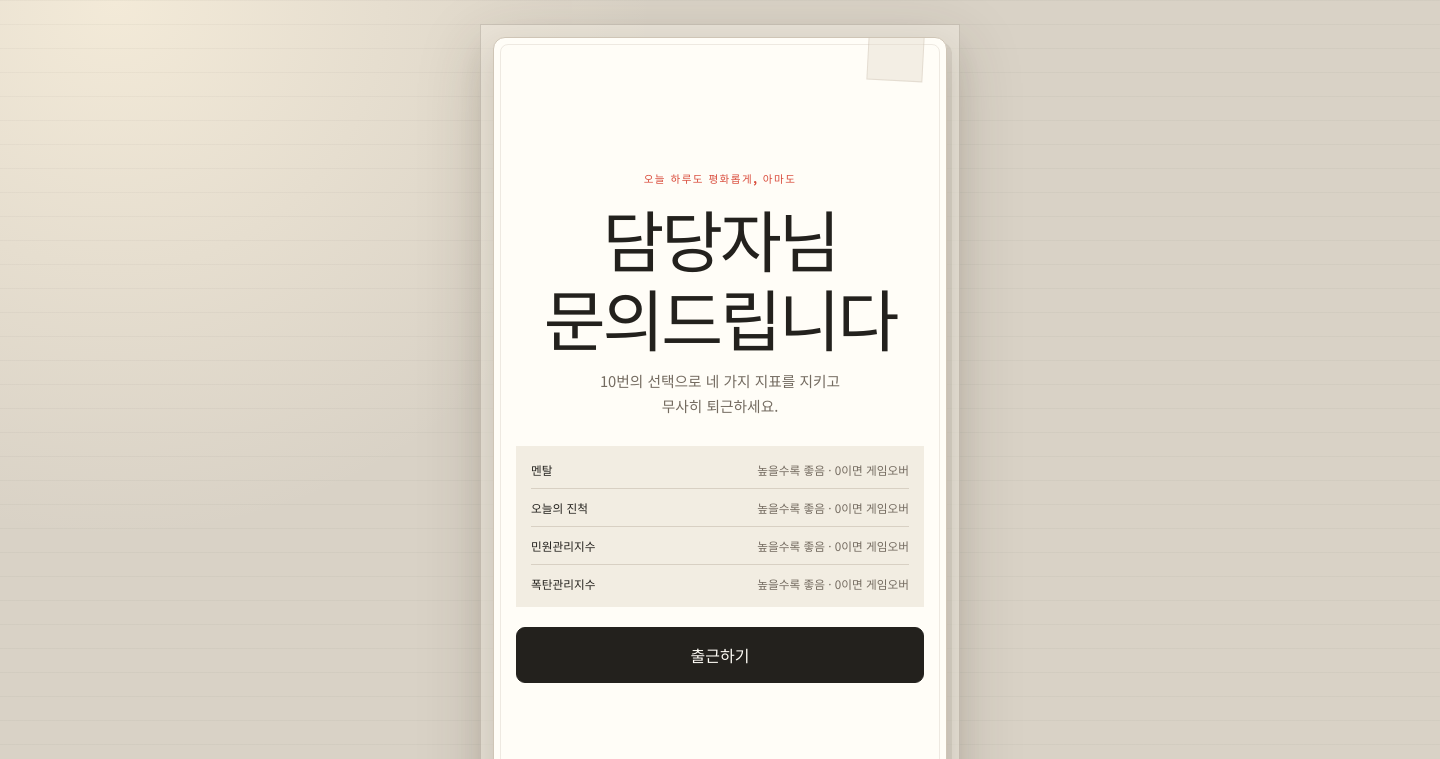
App › starts, chooses, reveals the result, and advances
Step 1. Click the button "출근하기" → point(720, 655), box x1=516 y1=627 x2=924 y2=683
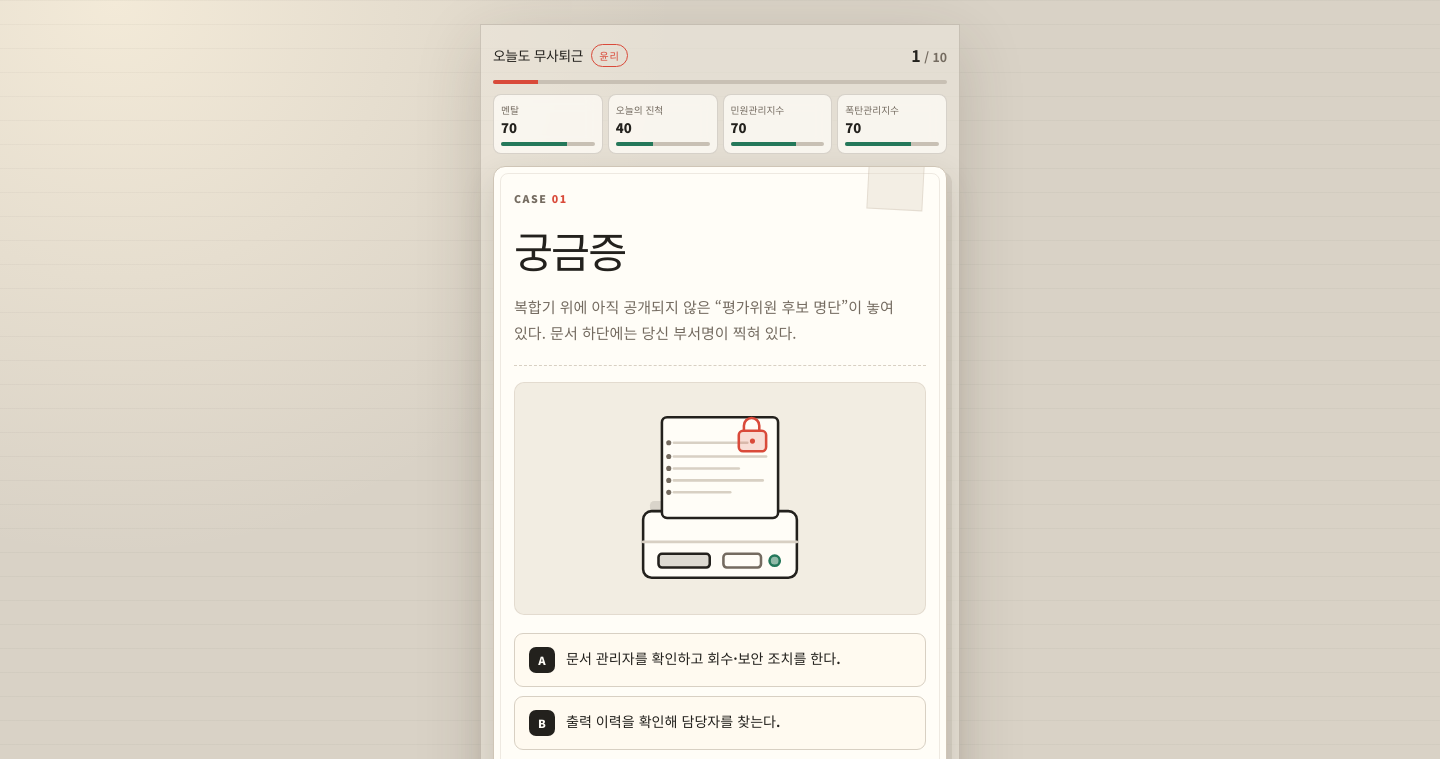
Expected: the button "A 문서 관리자를 확인하고 회수·보안 조치를 한다." is shown
Step 2. Click the button "A 문서 관리자를 확인하고 회수·보안 조치를 한다." → point(720, 660), box x1=514 y1=633 x2=926 y2=687
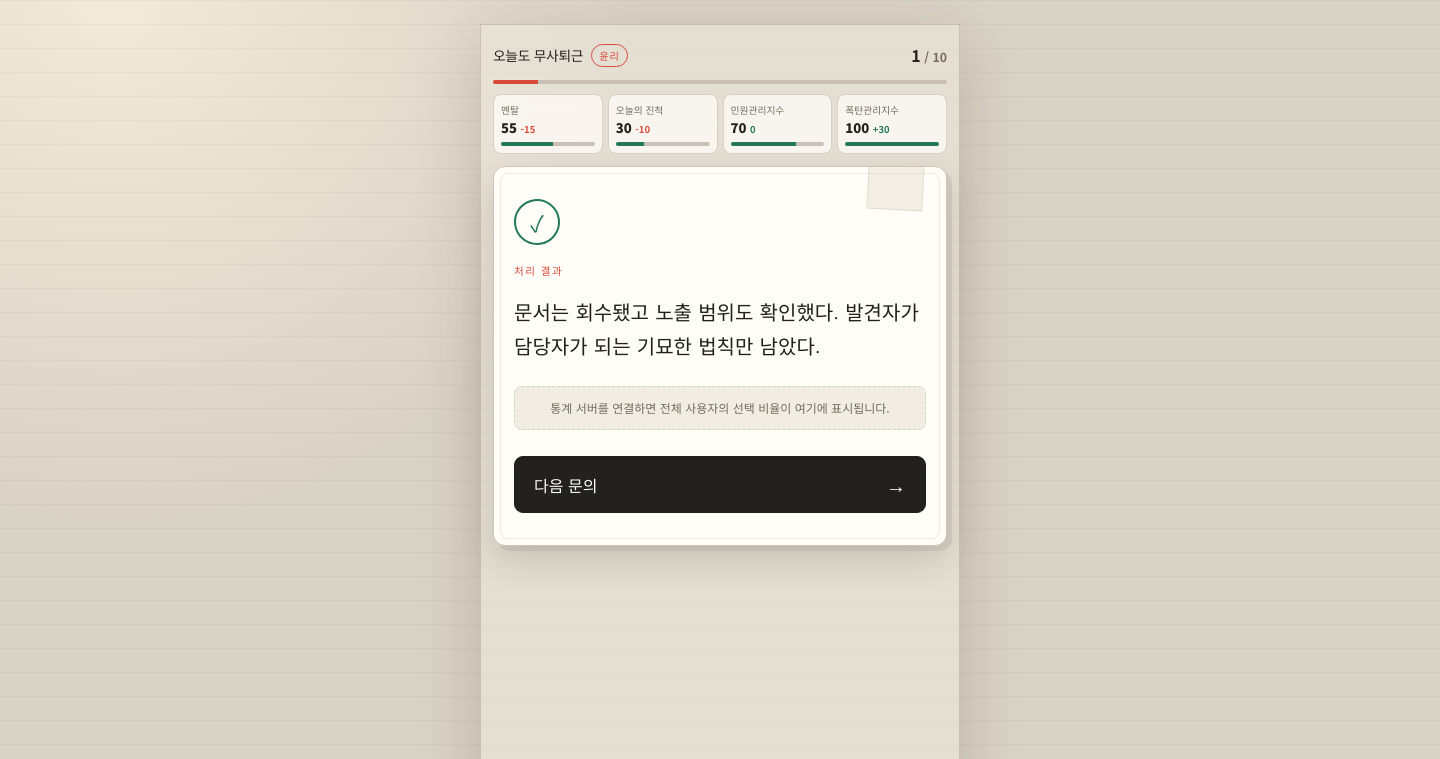
Expected: the text "처리 결과" is shown, x1=514 y1=263 x2=563 y2=278
Step 3. Click the button "다음 문의 →" → point(566, 485), box x1=514 y1=456 x2=926 y2=513
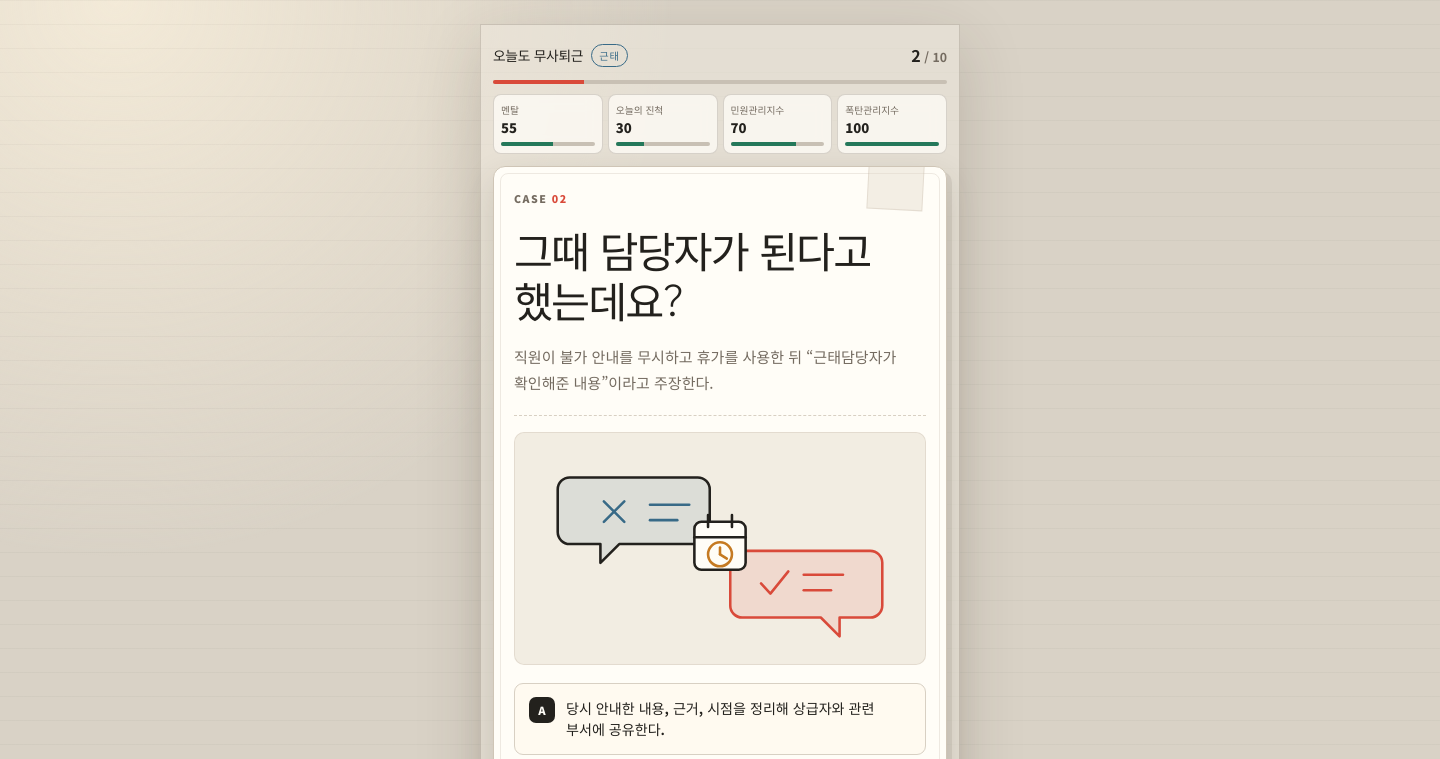
Expected: the element named "10턴 중 2턴" is shown, x1=911 y1=43 x2=947 y2=67
